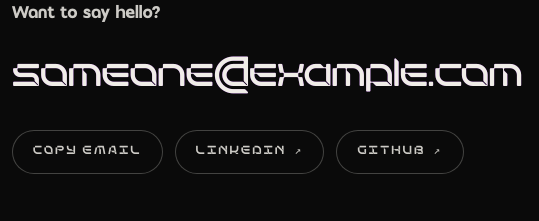
Scenario: ContactDetails › says so when it can't copy
Click the button "Copy email".
click(87, 152)  # box [12,130,163,174]
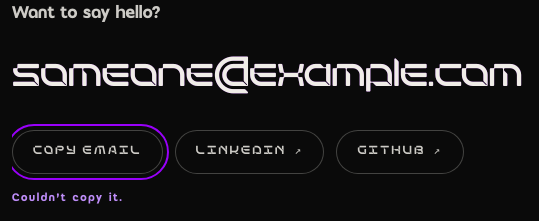
Result: the message reads "Couldn't copy it." at [12,193,124,203]
